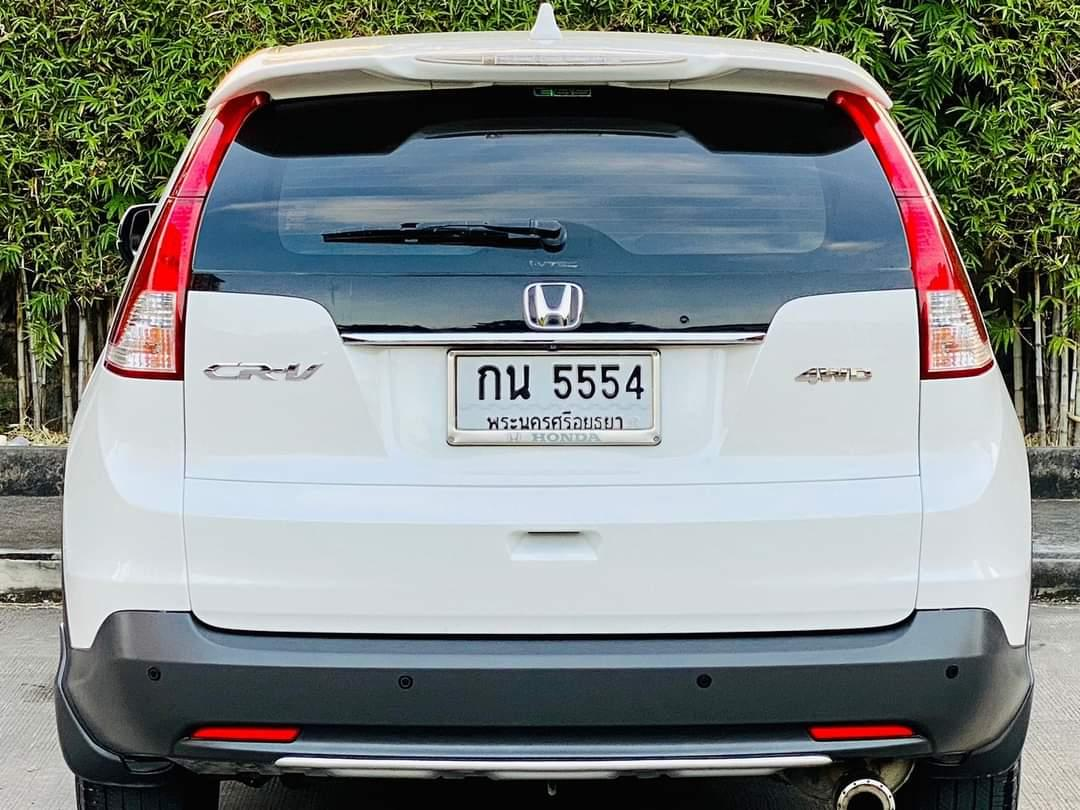license-plate: (445, 345, 662, 447)
